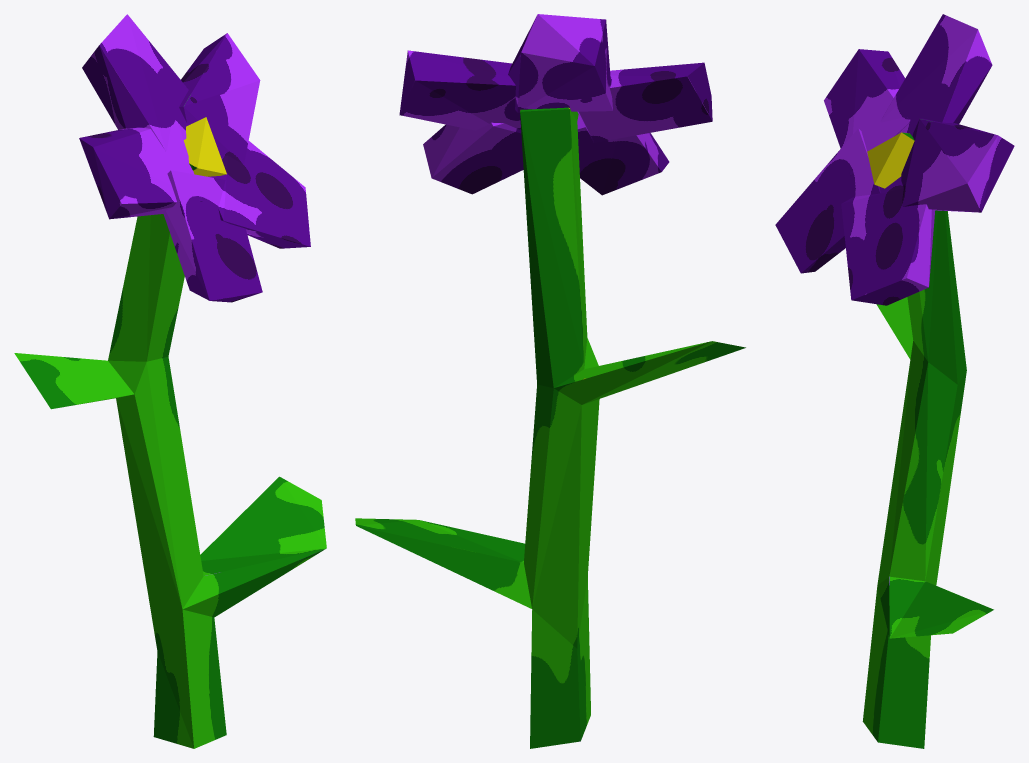
The model's file is flower.fbx.
3 views of the same model, side by side, from view 1: azimuth 30°, elevation 25°; view 2: azimuth 150°, elevation 25°; view 3: azimuth 270°, elevation 25° (orthographic). The views are drawn at different scales.
Visible parts, largest first — view 1: Cube; view 2: Cube; view 3: Cube.
Boxes of the visible parts, x1,y1,x2,y2 form: Cube: (14, 14, 326, 748); Cube: (355, 14, 745, 748); Cube: (775, 14, 1014, 748).
Size of the model in its own units: 165 by 350 by 108.
Materials: 1 (1 with a texture image).
